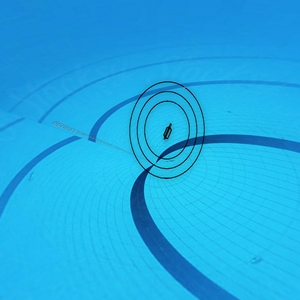circle: (126, 78, 207, 180)
submarine: (162, 123, 174, 140)
